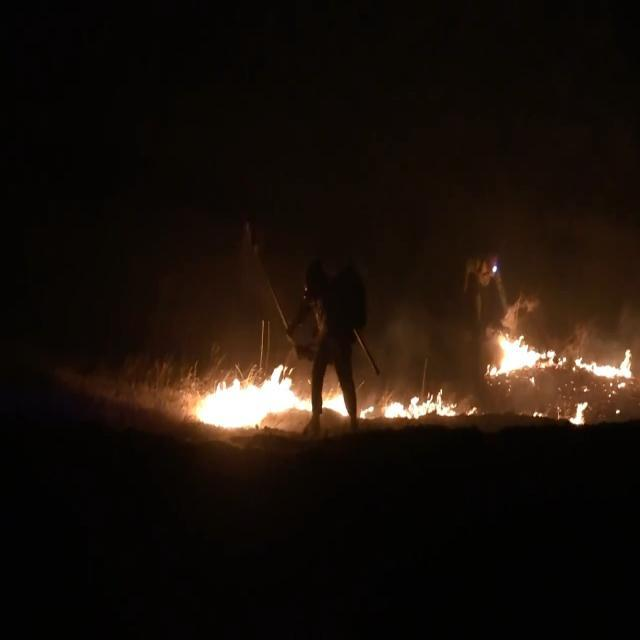Fire: (193, 317, 640, 432)
